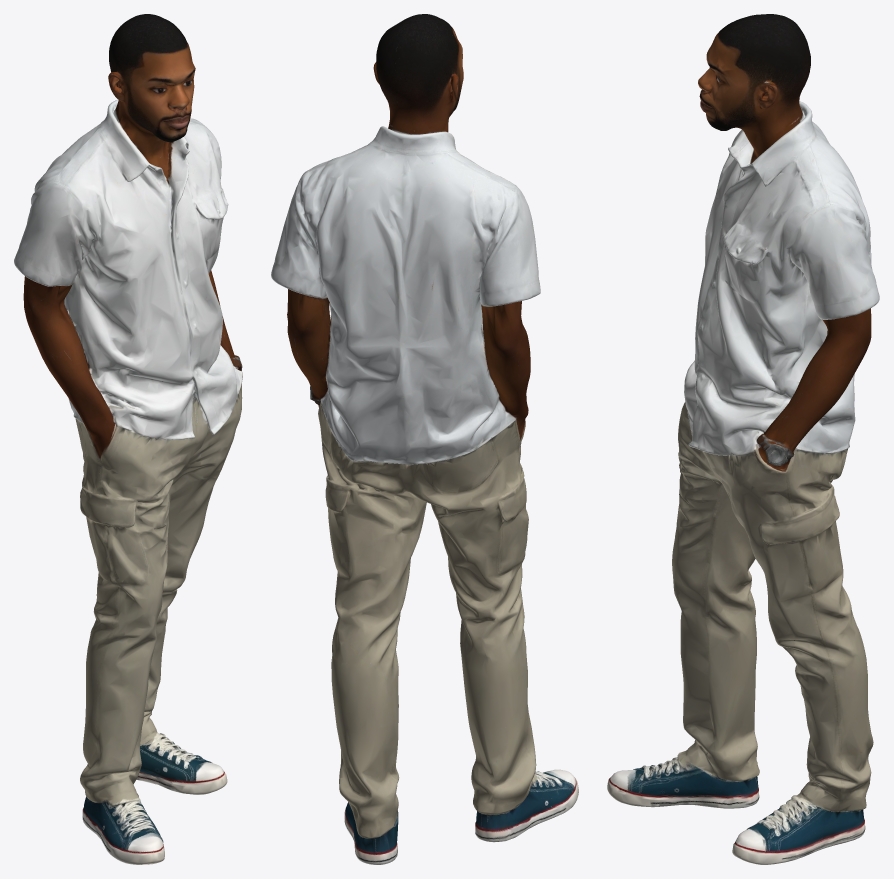
Rendered from bermuda-npc-male.glb.
The picture shows the model from 3 angles, left to right: view 1: azimuth 30°, elevation 25°; view 2: azimuth 150°, elevation 25°; view 3: azimuth 270°, elevation 25°; orthographic projection. The views are drawn at different scales.
Bounding box in the file's own units: 0.5639 × 1.9 × 0.5768.
Materials: 1 (1 with a texture image).
